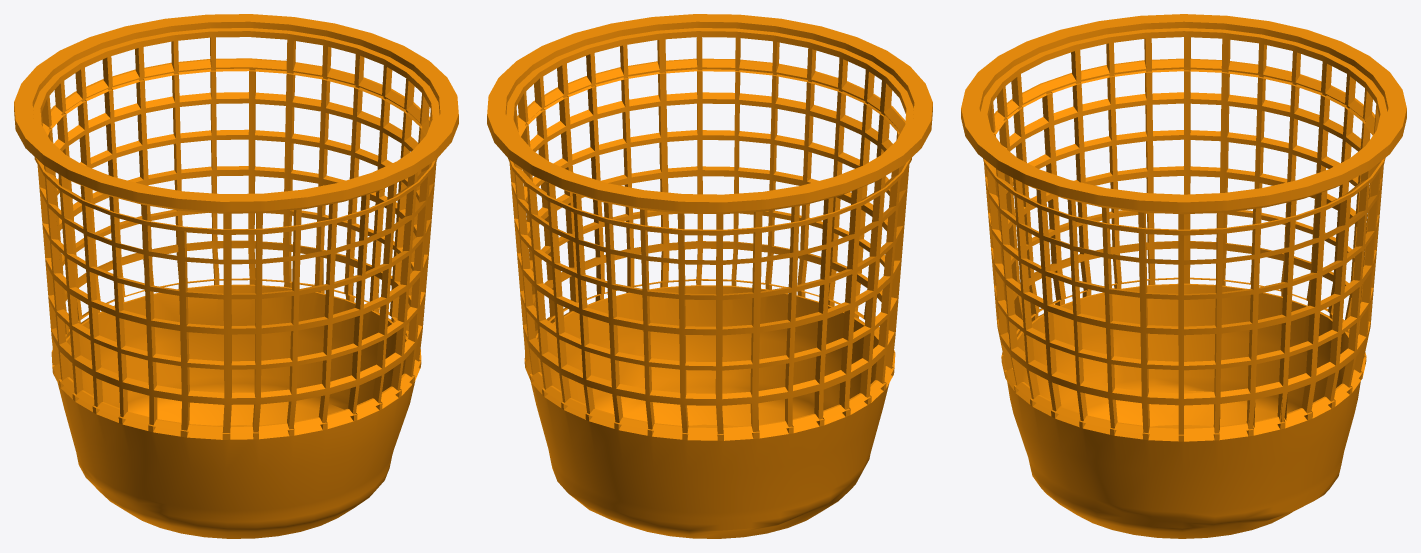
Rendered from dustbin.dae.
3 renders of one model, left to right at view 1: azimuth 30°, elevation 25°; view 2: azimuth 150°, elevation 25°; view 3: azimuth 270°, elevation 25°, orthographic.
Parts seen in each view (by area): view 1: basket; view 2: basket; view 3: basket.
Boxes of the visible parts, bbox=[...] form: basket: bbox=[14, 14, 458, 538]; basket: bbox=[487, 14, 932, 538]; basket: bbox=[961, 14, 1406, 538].
Size of the model in its own units: 0.218 by 0.2035 by 0.218.
